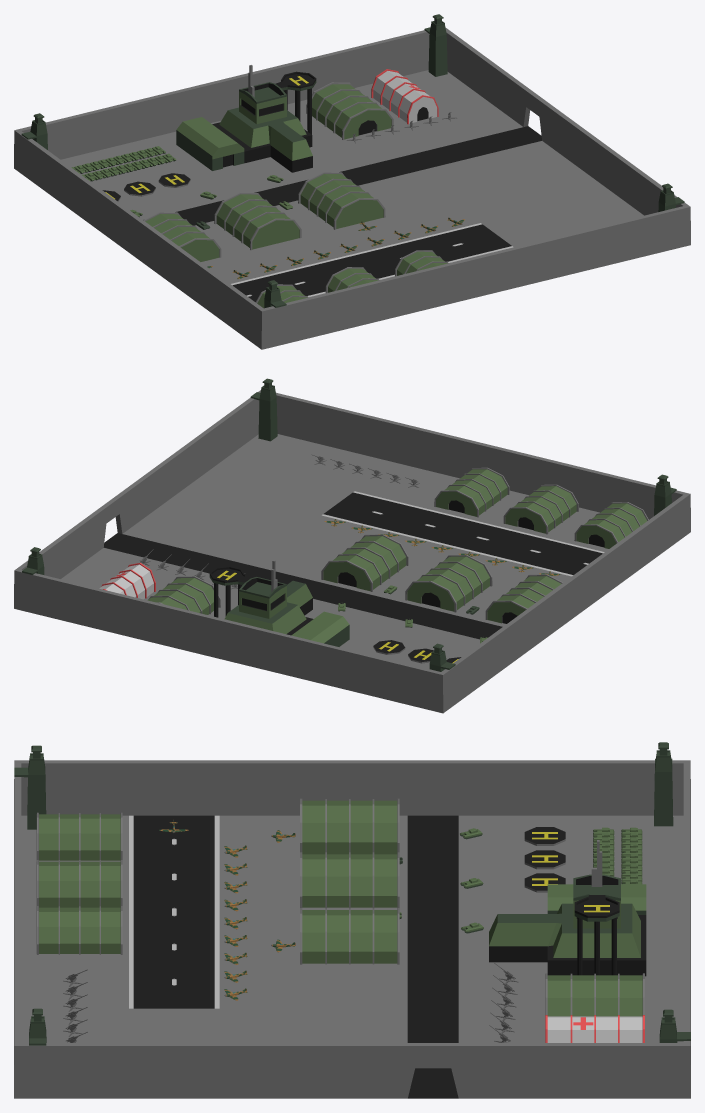
3 renders of one model, top to bottom at view 1: azimuth 30°, elevation 25°; view 2: azimuth 150°, elevation 25°; view 3: azimuth 270°, elevation 25°, orthographic. The views are drawn at different scales.
Parts seen in each view (by area): view 1: HQ; view 2: HQ; view 3: HQ.
Boxes of the visible parts, bbox=[...] form: HQ: bbox=[14, 14, 690, 349]; HQ: bbox=[14, 378, 690, 713]; HQ: bbox=[14, 742, 690, 1098].
Bounding box in the file's own units: 7200 × 1322 × 7200.
9 materials, 1 textured.
